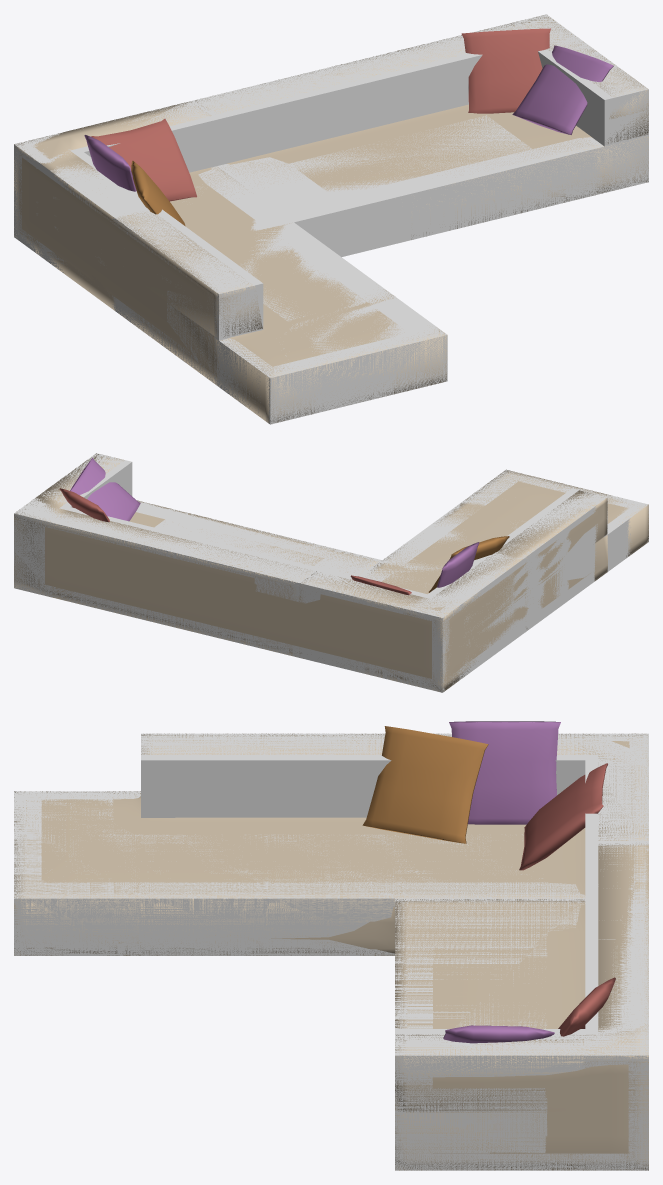
Rendered from sofa.glb.
3 renders of one model, top to bottom at view 1: azimuth 30°, elevation 25°; view 2: azimuth 150°, elevation 25°; view 3: azimuth 270°, elevation 25°, orthographic. The views are drawn at different scales.
Visible parts, largest first — view 1: sofa_noSub, sofa, sofa_subModifier, pillow3, pillow4, pillow1, pillow2, pillow5; view 2: sofa_noSub, sofa, sofa_subModifier, pillow4, pillow2, pillow3, pillow5, pillow1; view 3: sofa_noSub, sofa_subModifier, sofa, pillow5, pillow2, pillow1, pillow4, pillow3.
Part boxes in pixels (left/top/right/bottom): sofa_noSub: left=14, top=14, right=648, bottom=424; sofa: left=22, top=104, right=592, bottom=366; sofa_subModifier: left=14, top=15, right=648, bottom=423; pillow3: left=461, top=28, right=550, bottom=113; pillow4: left=512, top=45, right=613, bottom=134; pillow1: left=91, top=118, right=196, bottom=201; pillow2: left=84, top=135, right=136, bottom=191; pillow5: left=131, top=161, right=185, bottom=226; sofa_noSub: left=14, top=453, right=648, bottom=692; sofa: left=45, top=481, right=627, bottom=678; sofa_subModifier: left=14, top=453, right=648, bottom=692; pillow4: left=70, top=457, right=140, bottom=521; pillow2: left=437, top=542, right=479, bottom=587; pillow3: left=59, top=488, right=109, bottom=522; pillow5: left=428, top=536, right=509, bottom=592; pillow1: left=350, top=575, right=411, bottom=595; sofa_noSub: left=14, top=733, right=648, bottom=1170; sofa_subModifier: left=14, top=733, right=648, bottom=1170; sofa: left=41, top=740, right=629, bottom=1153; pillow5: left=362, top=726, right=488, bottom=843; pillow2: left=449, top=721, right=560, bottom=824; pillow1: left=519, top=763, right=607, bottom=870; pillow4: left=443, top=1025, right=554, bottom=1043; pillow3: left=558, top=977, right=615, bottom=1036.
Bounding box in the file's own units: 6 × 1.38 × 5.
